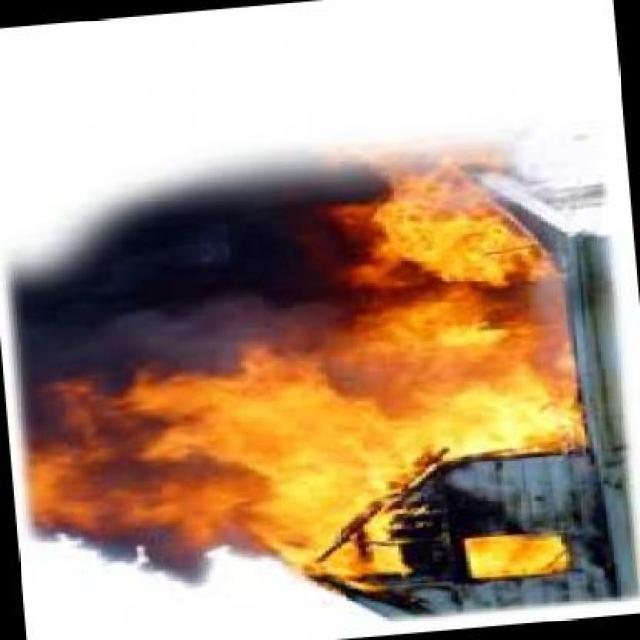Fire: (16, 369, 443, 592), (342, 157, 598, 462), (456, 520, 585, 582)
Smoke: (10, 156, 346, 370)
